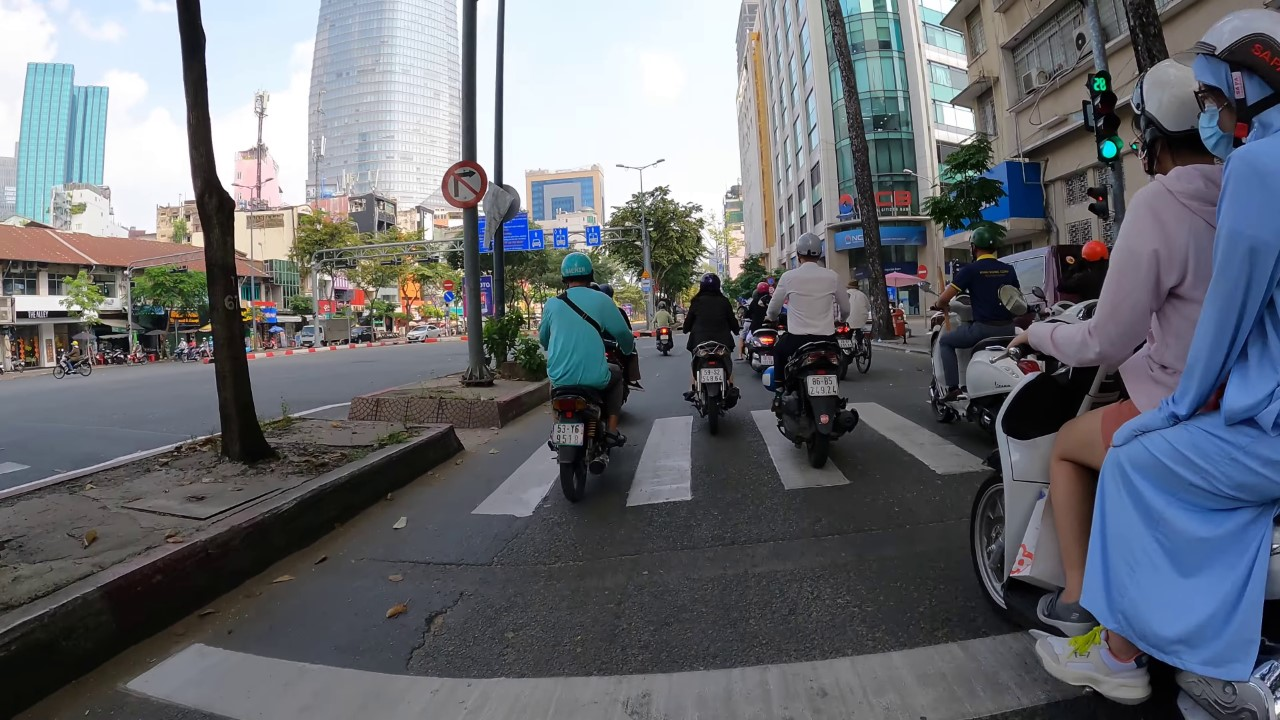cam_re_phai: (435, 157, 491, 211)
